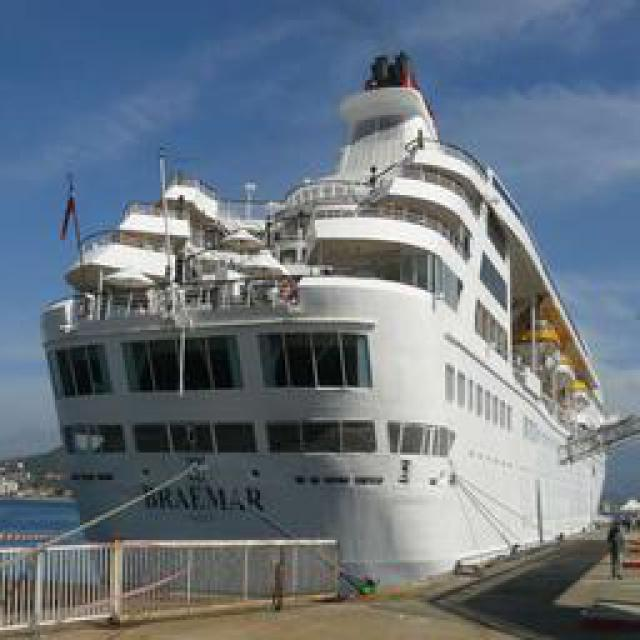Ship: (36, 46, 624, 611)
